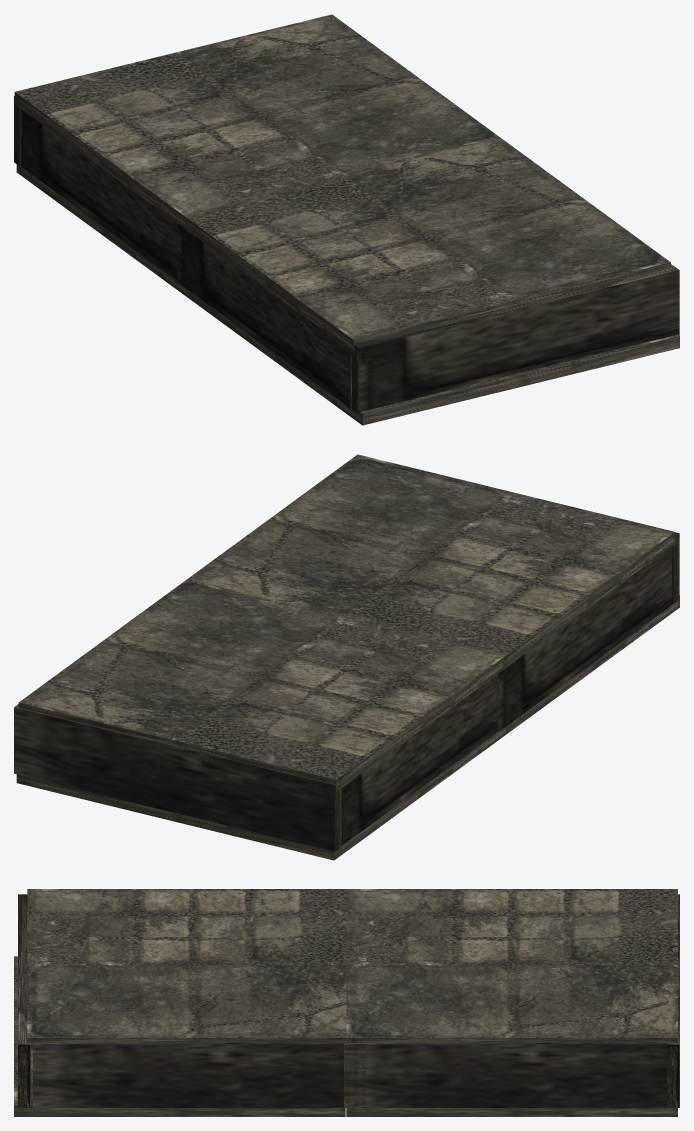
Rendered from dungeontest-B.glb.
3 views of the same model, one above another, from view 1: azimuth 30°, elevation 25°; view 2: azimuth 150°, elevation 25°; view 3: azimuth 270°, elevation 25° (orthographic). The views are drawn at different scales.
Parts seen in each view (by area): view 1: Cube.009, Cube.006, Cube.002, Cube.013, Cube.005, Cube.010, Cube; view 2: Cube.006, Cube.009, Cube.003, Cube.013, Cube.005, Cube, Cube.010; view 3: Cube.006, Cube.009, Cube.004, Cube.012, Cube.010, Cube, Cube.002, Cube.003.
Boxes of the visible parts, x1,y1,x2,y2 form: Cube.009: (187,136,670,351); Cube.006: (14,14,497,229); Cube.002: (352,265,679,414); Cube.013: (177,223,351,408); Cube.005: (21,109,177,280); Cube.010: (189,291,679,425); Cube: (16,164,189,298); Cube.006: (18,581,508,791); Cube.009: (185,454,675,669); Cube.003: (14,704,341,851); Cube.013: (497,546,671,732); Cube.005: (341,674,497,845); Cube: (16,726,506,860); Cube.010: (507,595,679,733); Cube.006: (346,889,677,1042); Cube.009: (27,889,358,1049); Cube.004: (344,1042,667,1107); Cube.012: (33,1042,365,1107); Cube.010: (14,956,345,1116); Cube: (346,1108,677,1116); Cube.002: (18,894,30,1107); Cube.003: (667,894,679,1107).
Bounding box in the file's own units: 19.51 × 4.71 × 36.48.
Materials: 3 (3 with a texture image).
